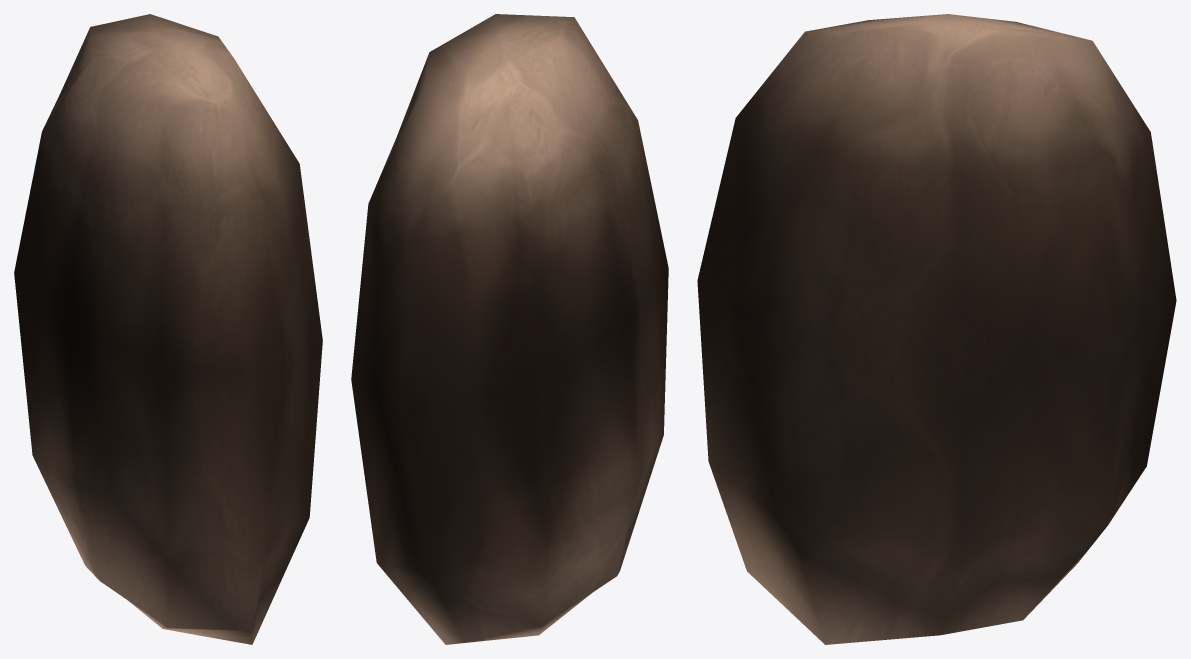
File: rock_4.fbx
3 renders of one model, left to right at view 1: azimuth 30°, elevation 25°; view 2: azimuth 150°, elevation 25°; view 3: azimuth 270°, elevation 25°, orthographic. The views are drawn at different scales.
Visible parts, largest first — view 1: polySurface54; view 2: polySurface54; view 3: polySurface54.
Part boxes in pixels (box(x1,y1,x2,y2)): polySurface54: box(14, 14, 322, 644); polySurface54: box(351, 14, 668, 644); polySurface54: box(697, 14, 1176, 644).
Size of the model in its own units: 11 by 27.72 by 19.49.
